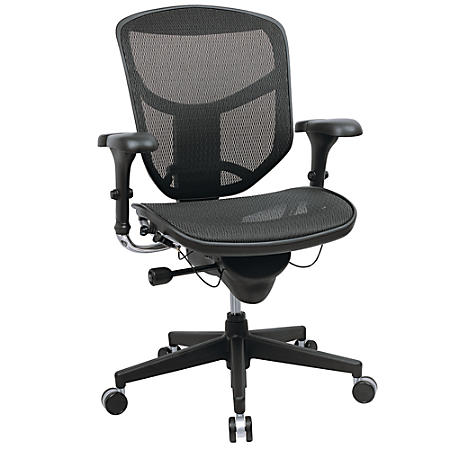chairs: (78, 4, 382, 444)
